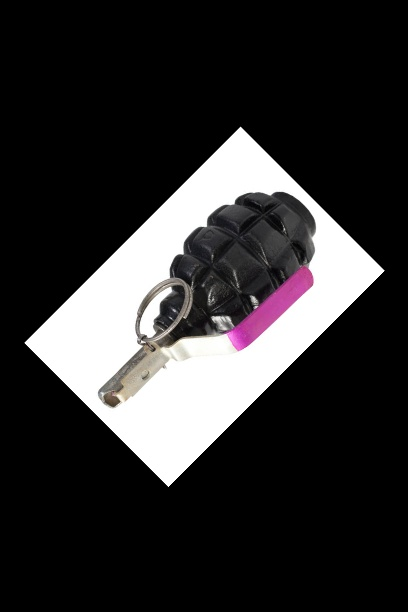e1: (99, 191, 317, 413)
